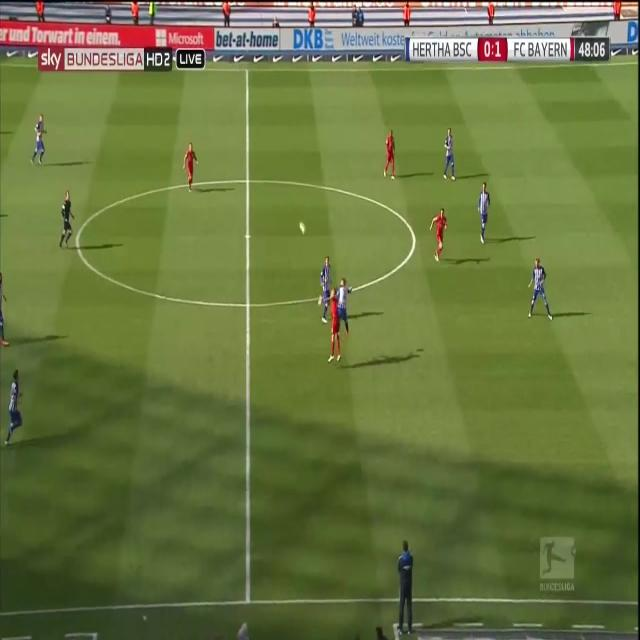Ball: (296, 216, 308, 238)
Player: (525, 256, 554, 324), (3, 368, 27, 449), (312, 254, 333, 325), (324, 290, 342, 368), (336, 272, 356, 341), (428, 206, 448, 266), (27, 113, 48, 169), (379, 128, 399, 182), (476, 180, 492, 247), (442, 124, 457, 182), (183, 141, 198, 194)
Referee: (57, 188, 76, 253)
